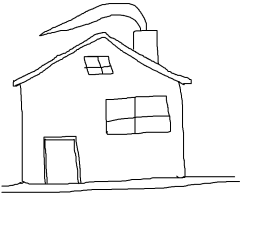closed_window: (102, 91, 173, 142), (83, 51, 116, 78)
door: (37, 131, 86, 189)
roof: (8, 30, 202, 89)
smoking_chimney: (33, 1, 168, 63)
wall: (13, 72, 191, 192)
